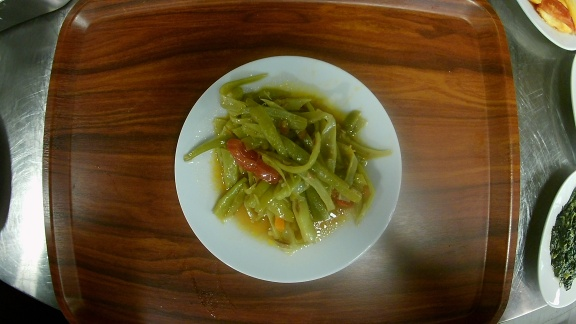tazefasulye: (172, 55, 403, 285)
